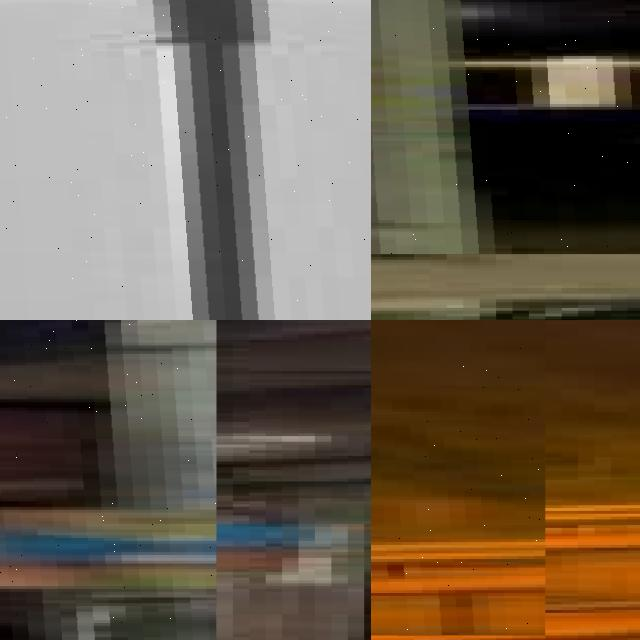street light: (0, 0, 371, 320), (0, 320, 216, 640), (371, 0, 640, 254), (371, 320, 545, 635)
